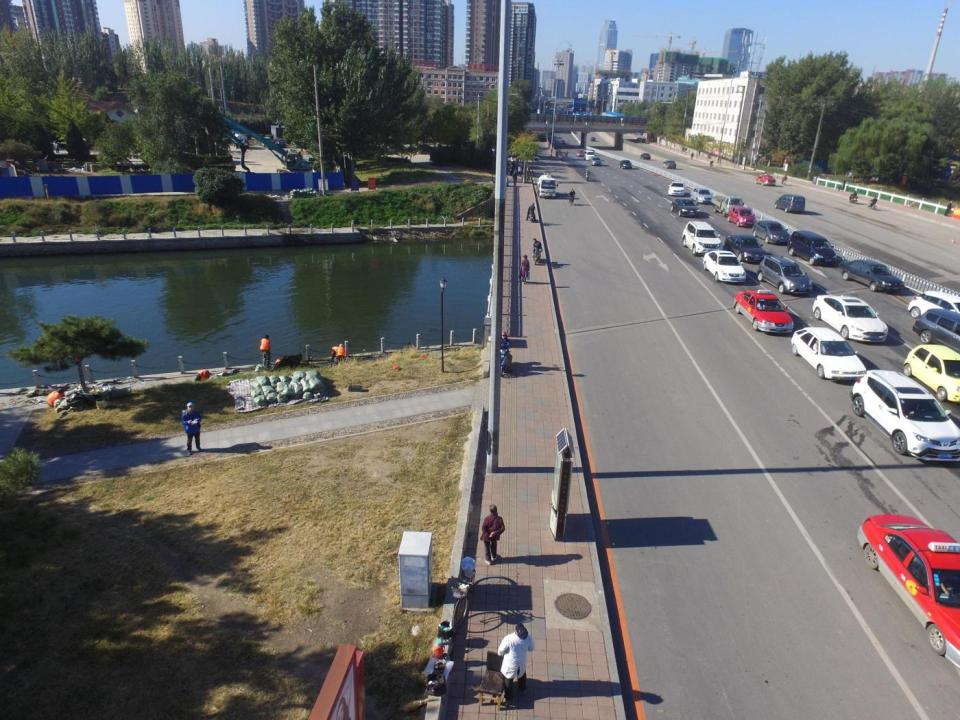car: (855, 511, 960, 665), (847, 368, 960, 464), (791, 324, 870, 381), (812, 292, 891, 343), (902, 342, 960, 403), (732, 287, 796, 334), (836, 256, 906, 293), (756, 253, 815, 294), (913, 308, 959, 354), (906, 289, 960, 328), (701, 248, 747, 285), (681, 219, 725, 256), (723, 233, 769, 264), (751, 219, 792, 245), (727, 206, 759, 228), (668, 198, 701, 218), (689, 188, 715, 204), (665, 178, 686, 197), (619, 159, 634, 171), (274, 138, 288, 149), (662, 159, 677, 169), (589, 156, 603, 166), (575, 148, 586, 157), (640, 152, 651, 161), (587, 148, 598, 156), (560, 137, 565, 145), (590, 136, 595, 141)
truck: (713, 194, 746, 218), (536, 173, 558, 201), (231, 131, 250, 149)
van: (788, 229, 840, 265), (773, 193, 808, 213), (262, 137, 274, 150), (583, 150, 596, 160)
